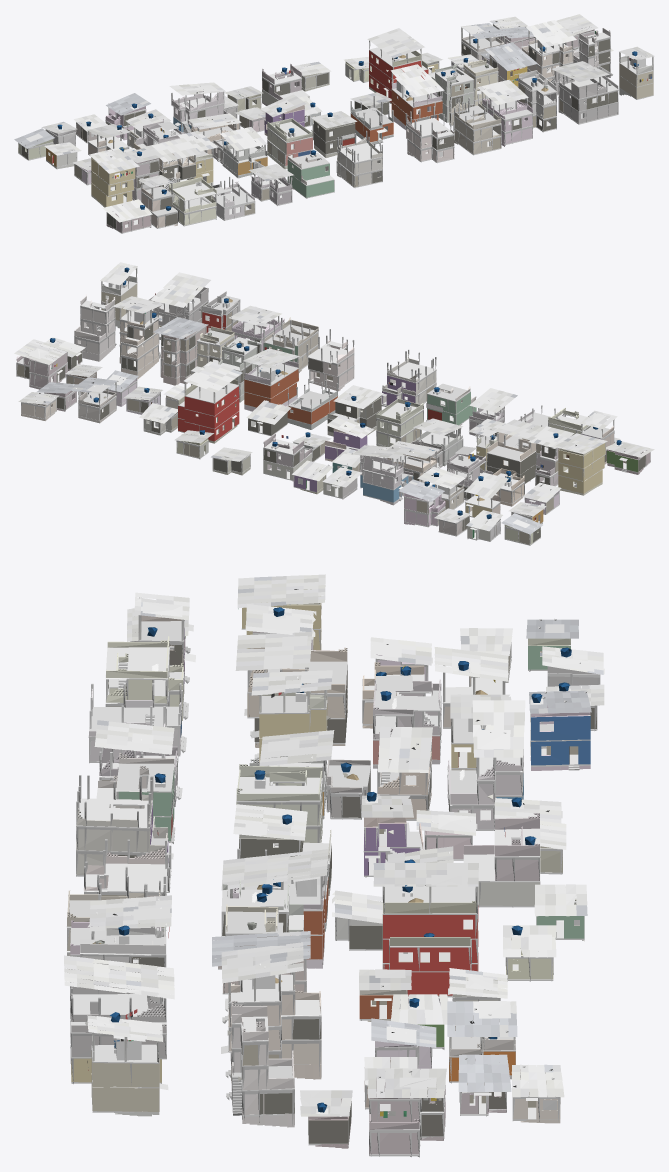
The picture shows the model from 3 angles, top to bottom: view 1: azimuth 30°, elevation 25°; view 2: azimuth 150°, elevation 25°; view 3: azimuth 270°, elevation 25°; orthographic projection. The views are drawn at different scales.
Visible parts, largest first — view 1: T_25_22; view 2: T_25_22; view 3: T_25_22.
Boxes of the visible parts, x1,y1,x2,y2 form: T_25_22: (14, 14, 654, 233); T_25_22: (14, 262, 654, 545); T_25_22: (64, 574, 604, 1157).
Bounding box in the file's own units: 132 × 16.82 × 56.8.
